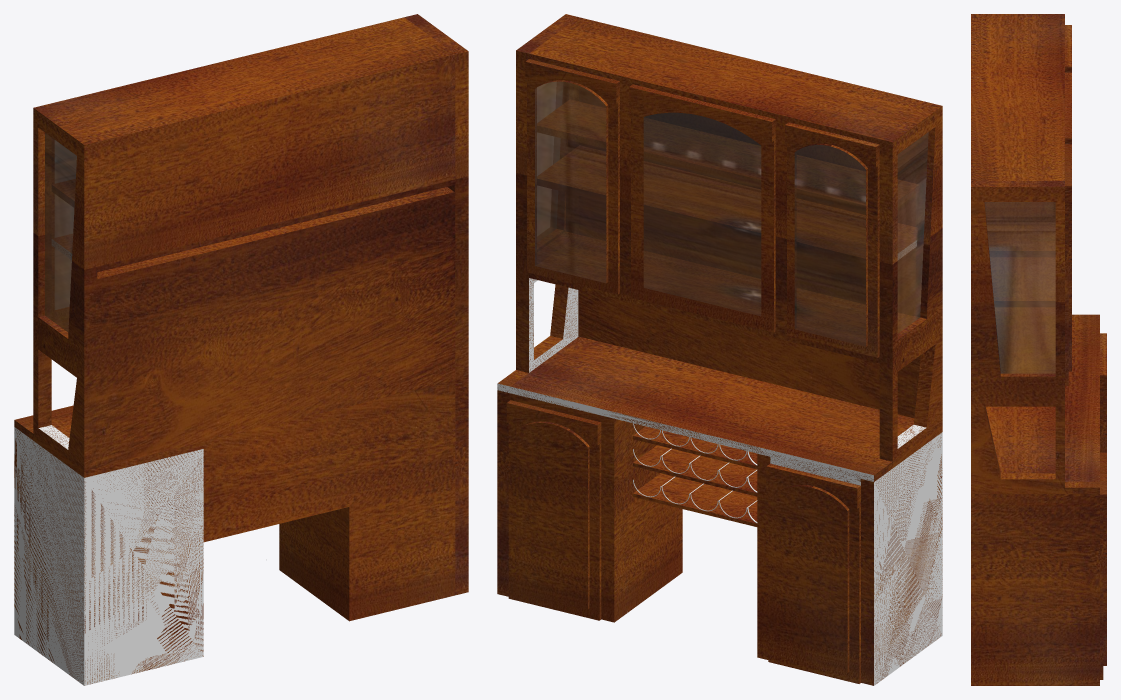
3 renders of one model, left to right at view 1: azimuth 30°, elevation 25°; view 2: azimuth 150°, elevation 25°; view 3: azimuth 270°, elevation 25°, orthographic. The views are drawn at different scales.
Parts seen in each view (by area): view 1: mesh68_mesh68-geometry, mesh61_mesh61-geometry; view 2: mesh68_mesh68-geometry, mesh63_mesh63-geometry, mesh62_mesh62-geometry, mesh61_mesh61-geometry; view 3: mesh68_mesh68-geometry, mesh62_mesh62-geometry, mesh63_mesh63-geometry, mesh61_mesh61-geometry.
Part boxes in pixels (<box>): mesh68_mesh68-geometry: <box>14,14,468,685</box>; mesh61_mesh61-geometry: <box>52,138,76,321</box>; mesh68_mesh68-geometry: <box>497,14,942,685</box>; mesh63_mesh63-geometry: <box>629,84,775,332</box>; mesh62_mesh62-geometry: <box>525,59,619,294</box>; mesh61_mesh61-geometry: <box>785,122,879,357</box>; mesh68_mesh68-geometry: <box>971,14,1106,685</box>; mesh62_mesh62-geometry: <box>1065,144,1071,385</box>; mesh63_mesh63-geometry: <box>1065,72,1071,144</box>; mesh61_mesh61-geometry: <box>1065,25,1071,72</box>.
Bounding box in the file's own units: 0.5853 × 0.7872 × 0.1943.
